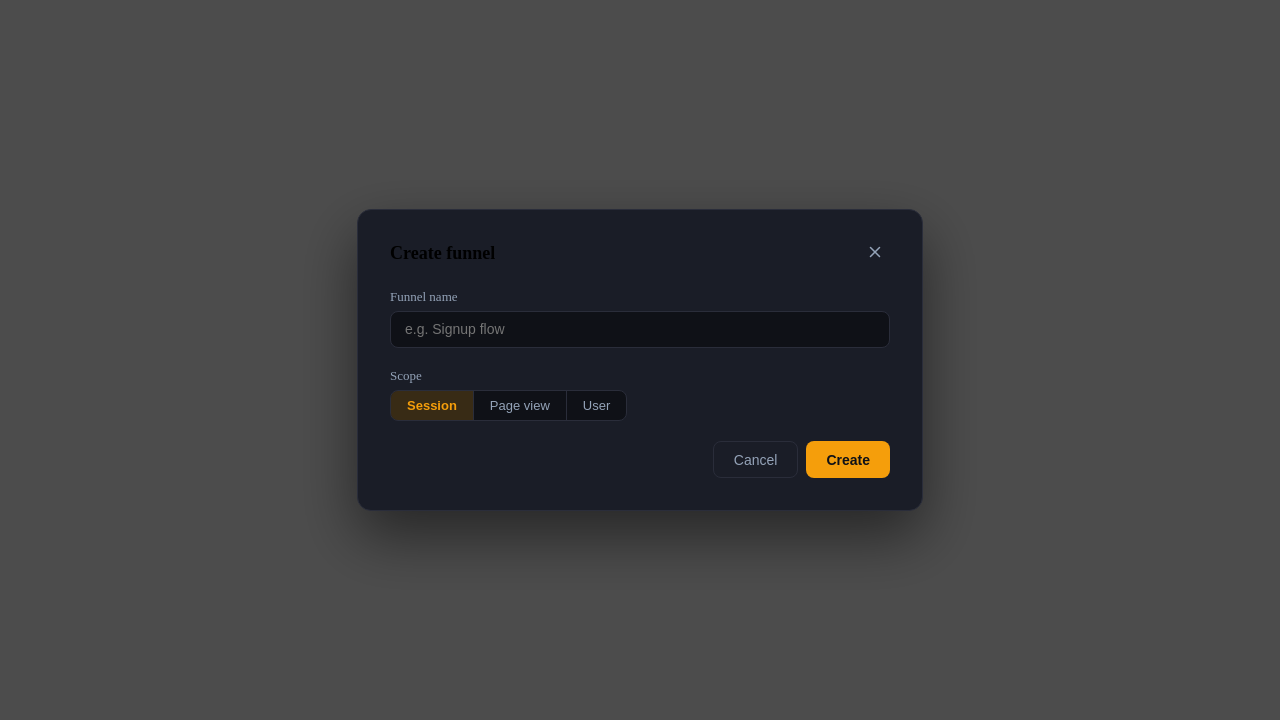
Test: CreateFunnelModal › shows an error when the name is empty
Click the button "Create" at (848,460), box [806,441,890,478]
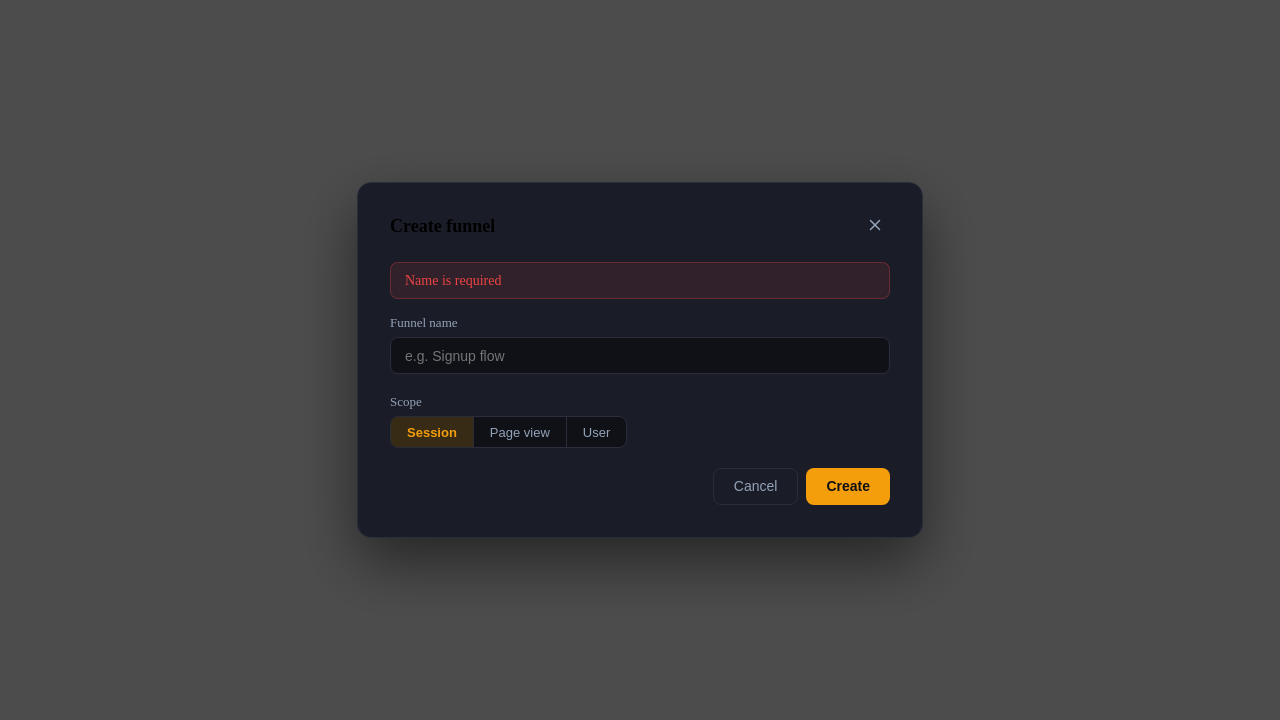
Now the text "Name is required" is shown, box [390,262,890,299]
